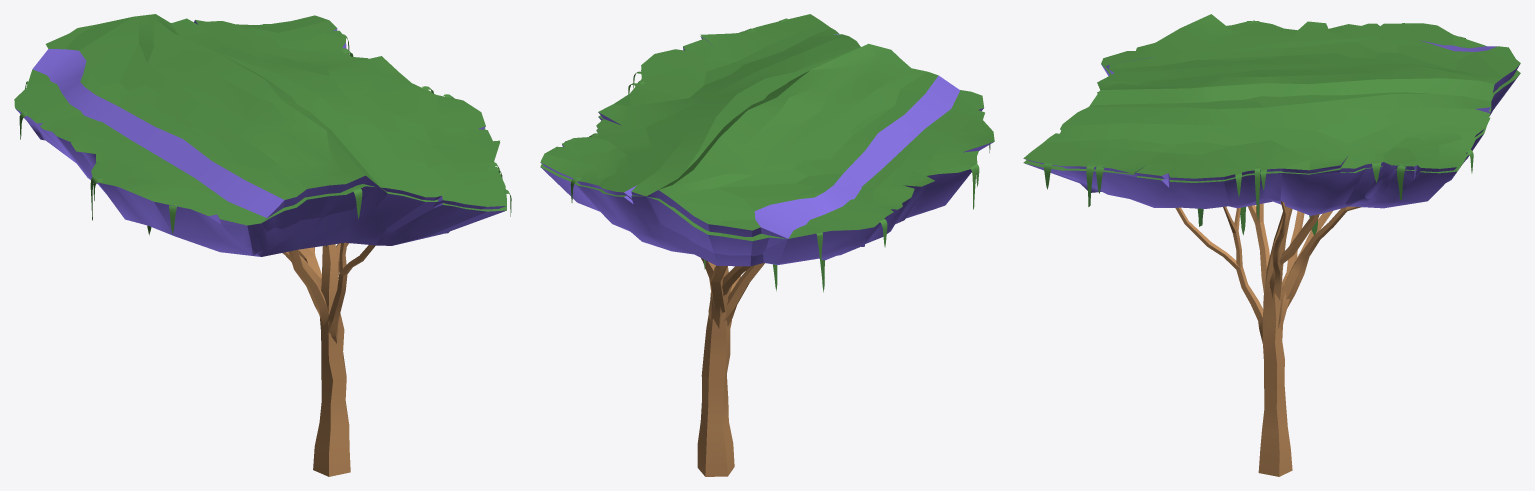
File: tree_C_canopy_A_solo.fbx
3 views of the same model, side by side, from view 1: azimuth 30°, elevation 25°; view 2: azimuth 150°, elevation 25°; view 3: azimuth 270°, elevation 25° (orthographic). The views are drawn at different scales.
Visible parts, largest first — view 1: tree_C_canopy_A_leveled, tree_C_canopy_A, tree_C_canopy_A_trunk_A, tree_C_canopy_A_trunk_C, tree_C_canopy_A_trunk_D; view 2: tree_C_canopy_A_leveled, tree_C_canopy_A, tree_C_canopy_A_trunk_A, tree_C_canopy_A_trunk_G, tree_C_canopy_A_trunk_D, tree_C_canopy_A_trunk_E; view 3: tree_C_canopy_A_leveled, tree_C_canopy_A, tree_C_canopy_A_trunk_A, tree_C_canopy_A_trunk_C, tree_C_canopy_A_trunk_G, tree_C_canopy_A_trunk_D, tree_C_canopy_A_trunk_F, tree_C_canopy_A_trunk_E, tree_C_canopy_A_trunk_H.
Boxes of the visible parts, x1,y1,x2,y2 form: tree_C_canopy_A_leveled: (14,14,506,256); tree_C_canopy_A: (34,15,506,233); tree_C_canopy_A_trunk_A: (313,244,350,476); tree_C_canopy_A_trunk_C: (327,242,375,343); tree_C_canopy_A_trunk_D: (288,249,328,326); tree_C_canopy_A_leveled: (540,36,994,266); tree_C_canopy_A: (540,14,993,256); tree_C_canopy_A_trunk_A: (697,266,734,476); tree_C_canopy_A_trunk_G: (701,258,728,312); tree_C_canopy_A_trunk_D: (723,263,764,326); tree_C_canopy_A_trunk_E: (708,266,751,328); tree_C_canopy_A_leveled: (1023,14,1520,215); tree_C_canopy_A: (1023,35,1520,198); tree_C_canopy_A_trunk_A: (1258,206,1292,476); tree_C_canopy_A_trunk_C: (1175,206,1263,343); tree_C_canopy_A_trunk_G: (1281,206,1361,308); tree_C_canopy_A_trunk_D: (1248,203,1269,292); tree_C_canopy_A_trunk_F: (1269,201,1286,300); tree_C_canopy_A_trunk_E: (1277,211,1304,332); tree_C_canopy_A_trunk_H: (1279,214,1319,264).
Bounding box in the file's own units: 588 × 613 × 759.
